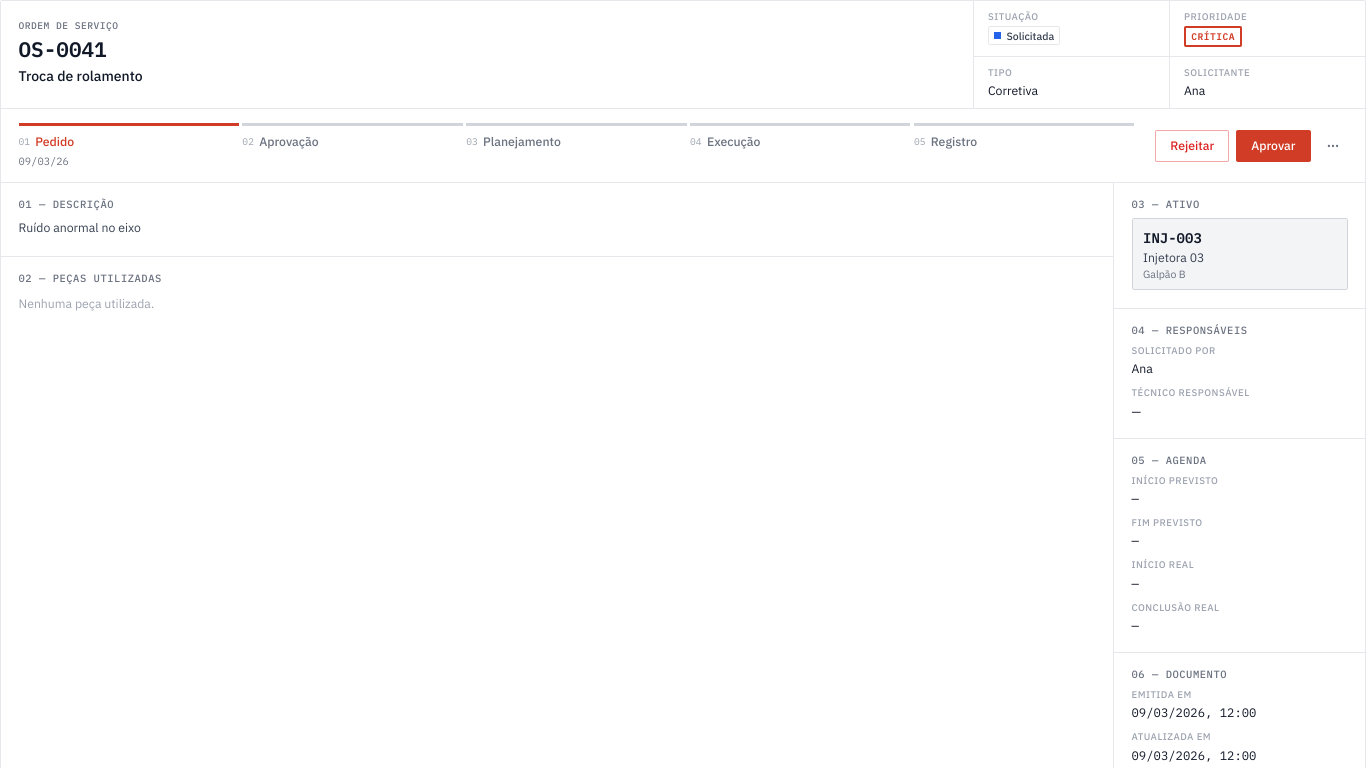
Test: WorkOrderViewPage › deve aprovar a OS e fechar o modal
What coordinates should you click on to do the following:
click the button "Aprovar"
I would click on:
 (1273, 146)
Its box is [1236,130,1310,162].
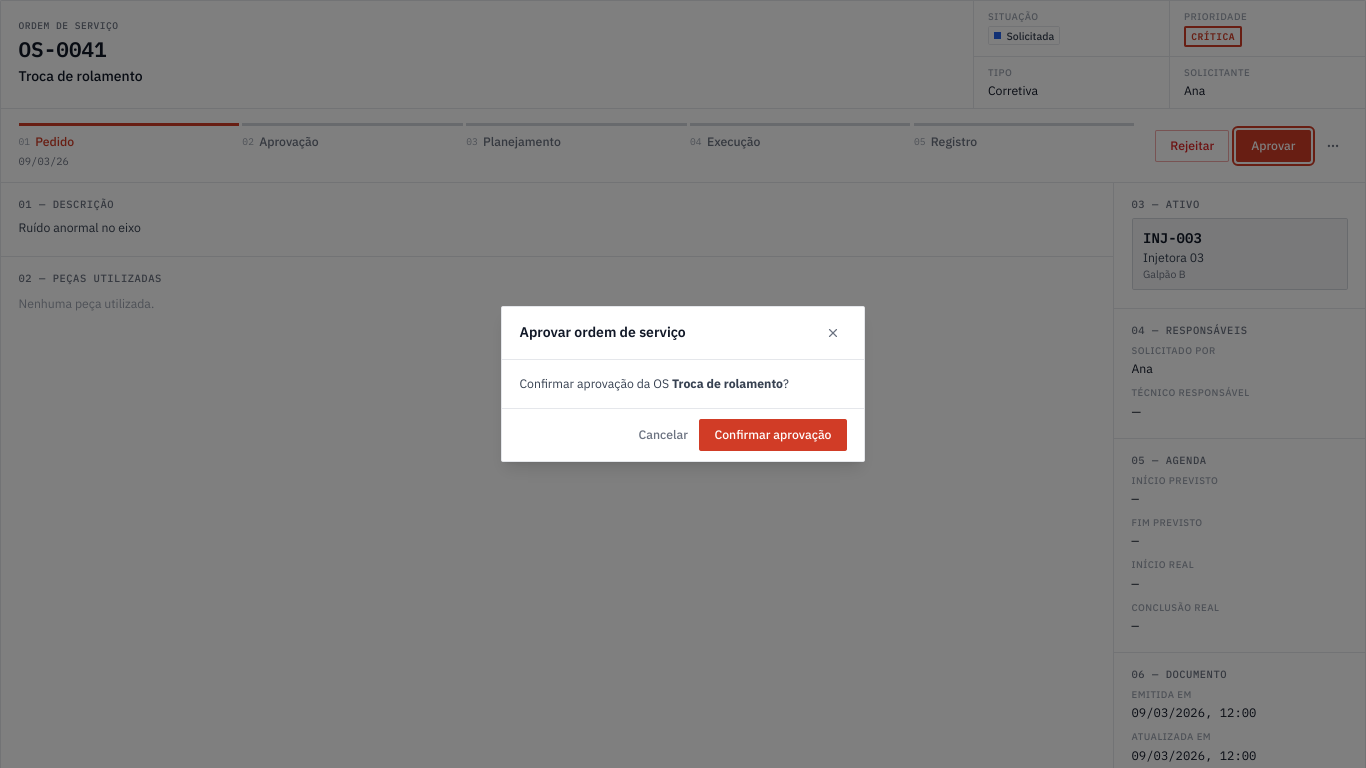
What coordinates should you click on to do the following:
click the button "Confirmar aprovação"
I would click on:
 (773, 435)
Its box is [699,420,846,451].
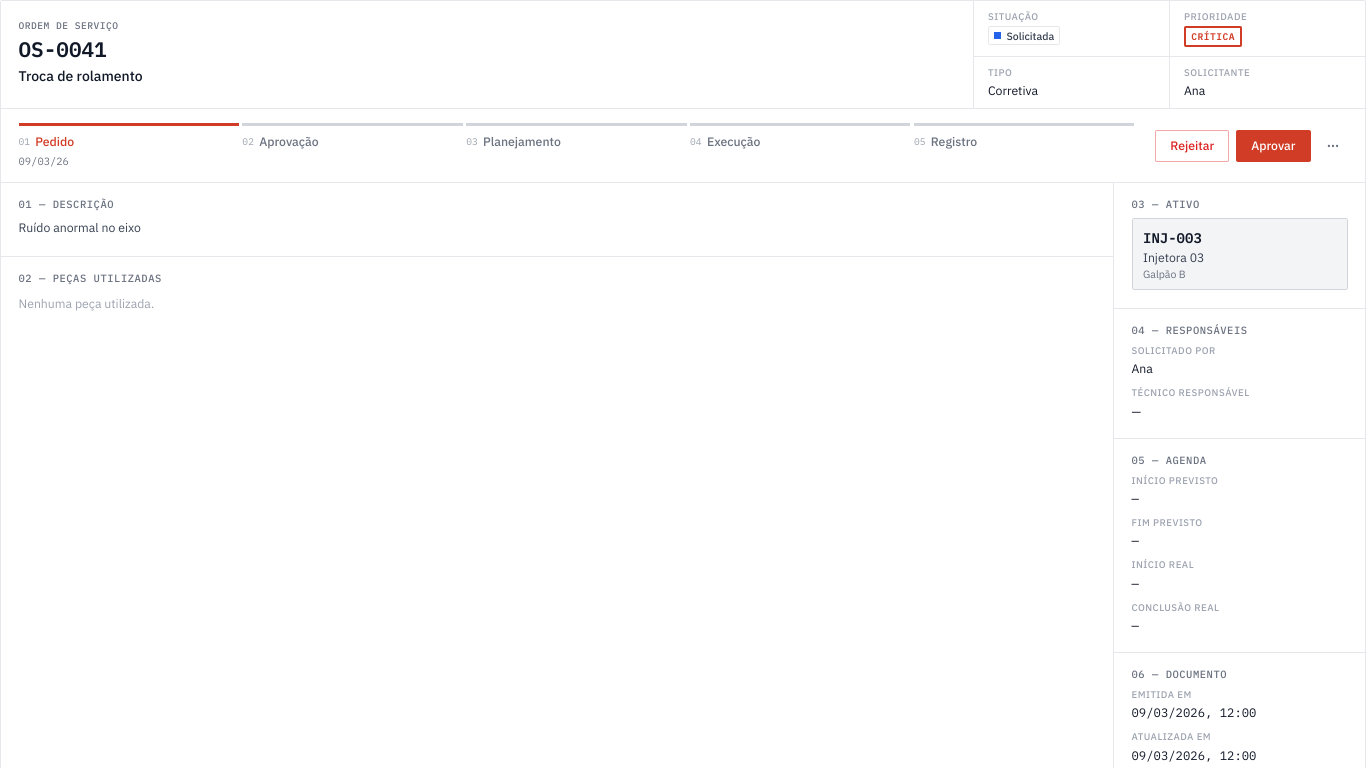
expect the heading "Aprovar ordem de serviço" is gone: met
